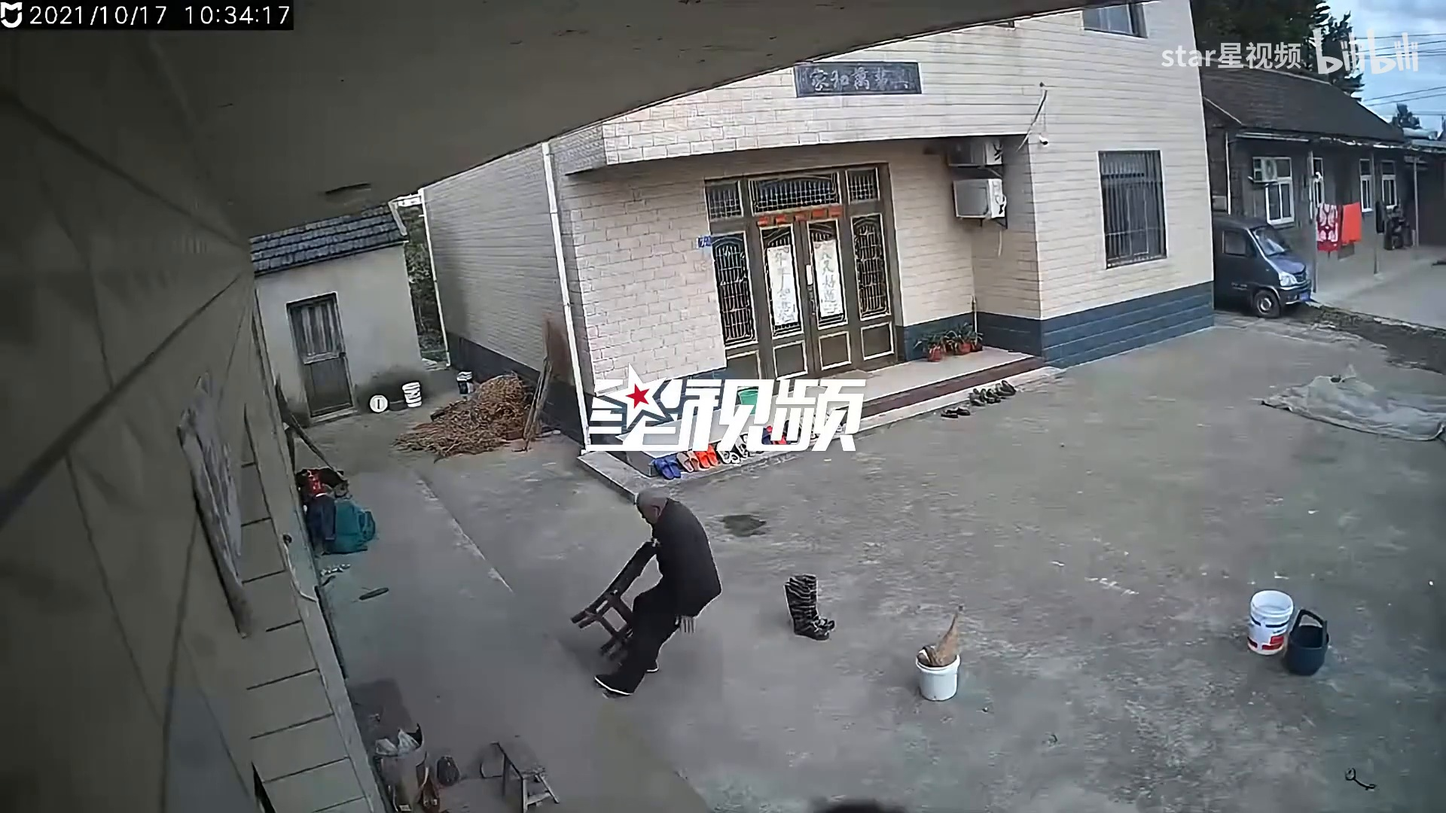stand: (590, 487, 722, 696)
